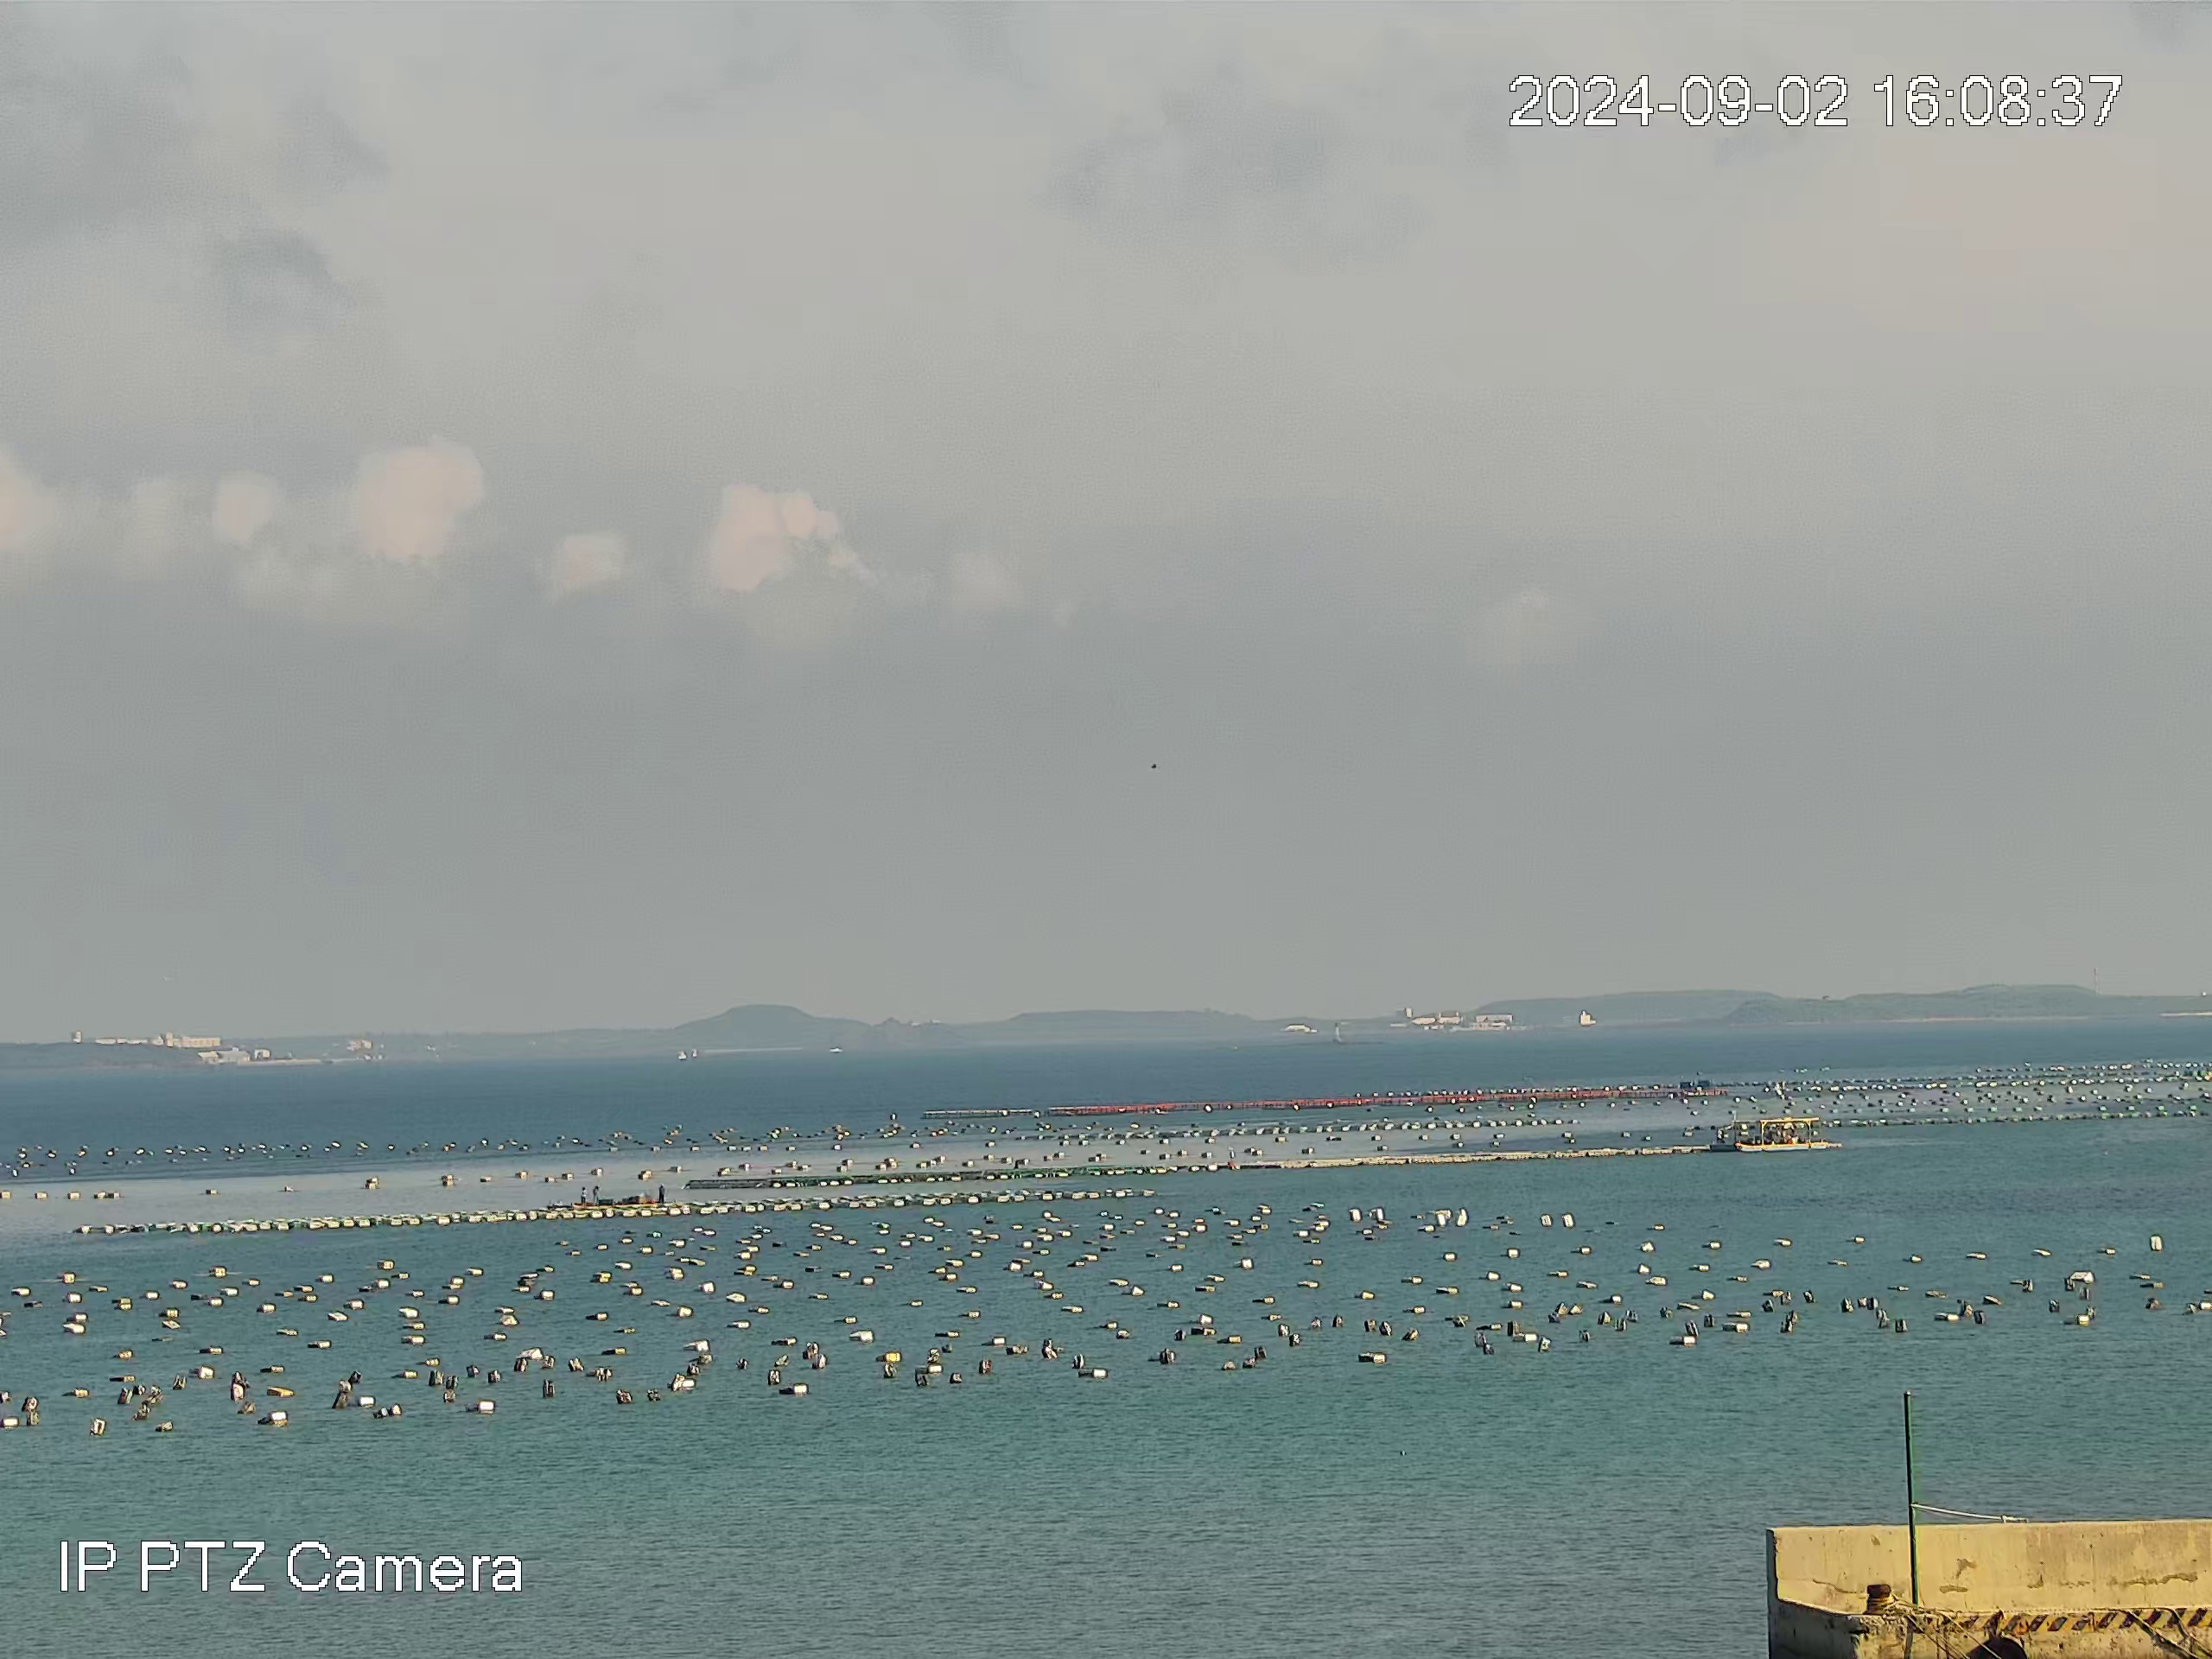boat: (1732, 1116, 1830, 1153), (570, 1185, 658, 1210)
